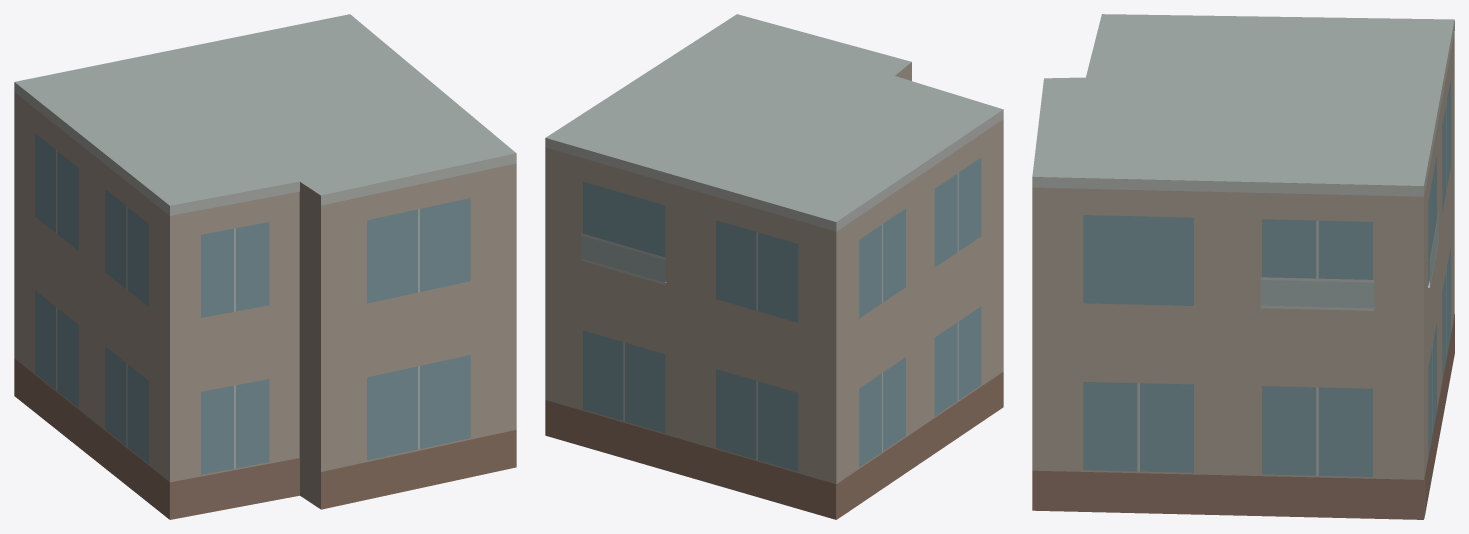
File: survey-upis-32607261.glb
3 views of the same model, side by side, from view 1: azimuth 30°, elevation 25°; view 2: azimuth 150°, elevation 25°; view 3: azimuth 270°, elevation 25° (orthographic). The views are drawn at different scales.
Parts seen in each view (by area): view 1: survey-upis-32607261.tmp; view 2: survey-upis-32607261.tmp; view 3: survey-upis-32607261.tmp.
Boxes of the visible parts, x1,y1,x2,y2 form: survey-upis-32607261.tmp: (14,14,516,519); survey-upis-32607261.tmp: (545,14,1003,519); survey-upis-32607261.tmp: (1032,14,1454,519).
Size of the model in its own units: 8.41 by 7.6 by 8.73.
